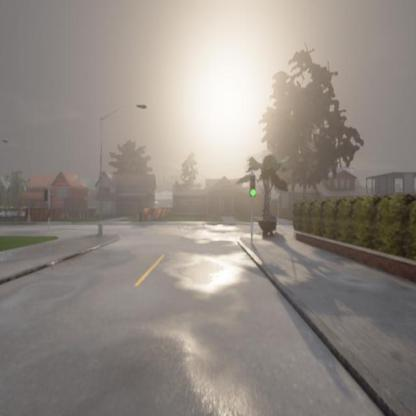traffic_light_green: (250, 172, 258, 196)
